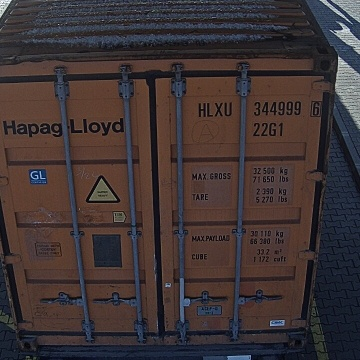serial_id: (197, 100, 320, 117)
